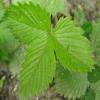Strawberry leaf: (53, 15, 96, 75), (17, 35, 55, 99), (4, 0, 52, 44)
